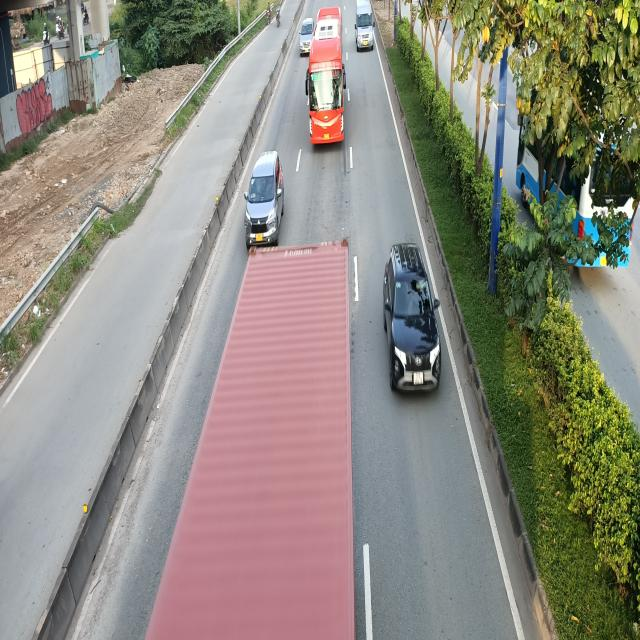car: (382, 246, 444, 398), (246, 150, 287, 249)
coach: (306, 5, 349, 146)
container: (126, 244, 368, 635)
van: (354, 0, 375, 49)
